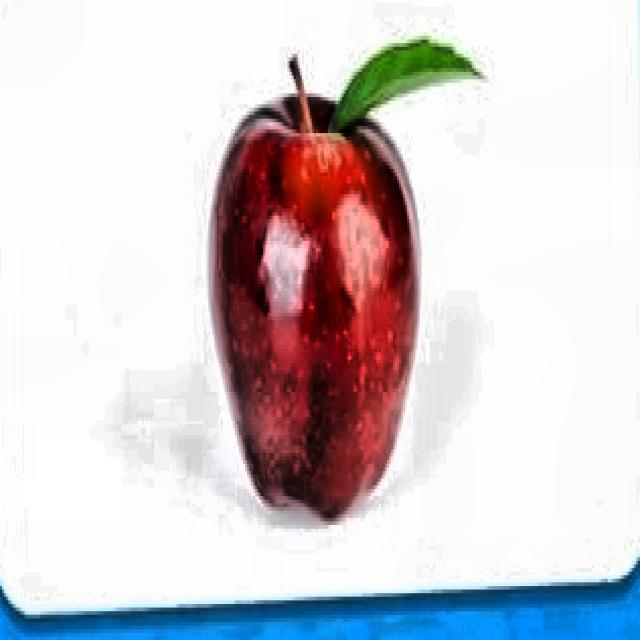Fruit: (147, 14, 512, 597)
